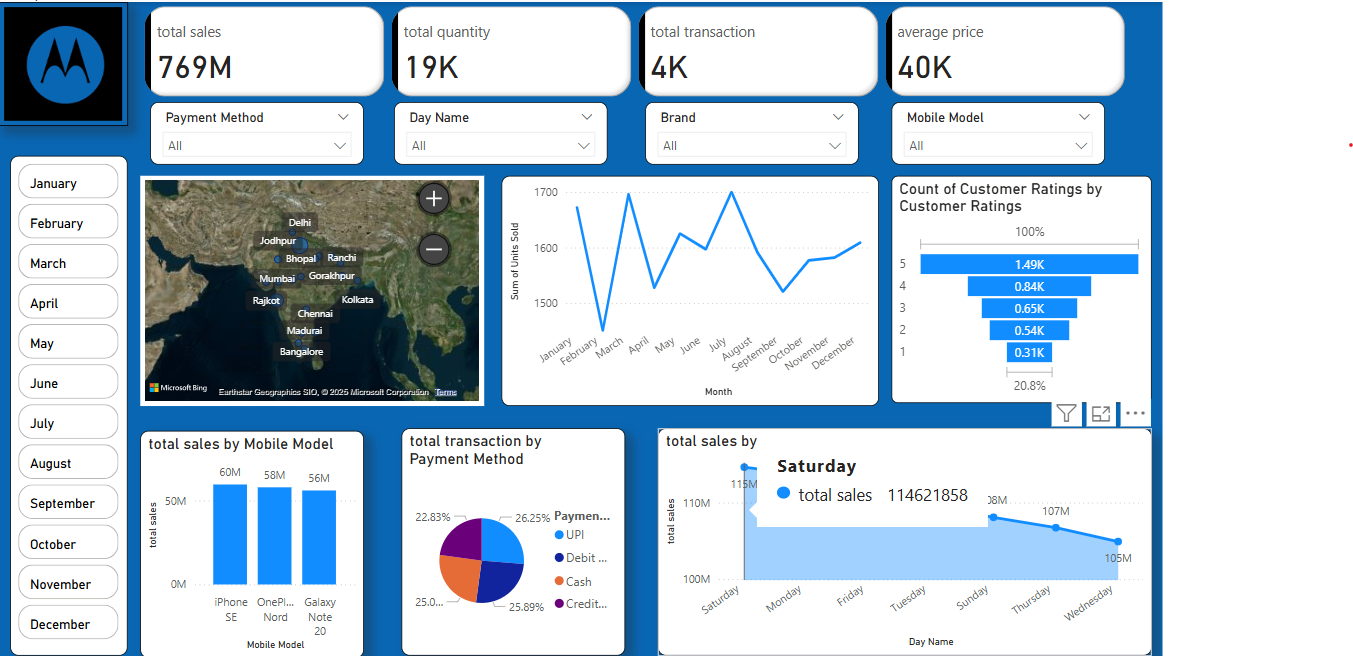

This screenshot's page, from the dashboard's own definition file:
{"tool":"powerbi","page":{"name":"Page 1","canvas":[1280,720],"ordinal":0},"visuals":[{"type":"image","box":[0,0,141.2,136.2],"z":0},{"type":"advancedSlicerVisual","fields":{"Values":["Sheet1.Date.Variation.Date Hierarchy.Month"]},"box":[12.3,168.8,129,548.9],"z":1000},{"type":"cardVisual","fields":{"Data":["Sheet1.total sales","Sheet1.total quantity","Sheet1.total transaction","Sheet1.average price"]},"box":[155.1,0,1086.8,109.8],"z":2000},{"type":"map","fields":{"Category":["Sheet1.City"],"Size":["Sheet1.total sales"]},"box":[155.1,190.7,377.4,252.5],"z":3000},{"type":"lineChart","fields":{"Y":["Sum(Sheet1.Units Sold)"],"Category":["Sheet1.Date.Variation.Date Hierarchy.Month","Sheet1.Date.Variation.Date Hierarchy.Day"]},"box":[551.6,190.7,414.4,252.5],"z":4000},{"type":"columnChart","fields":{"Category":["Sheet1.Mobile Model"],"Y":["Sheet1.total sales"]},"box":[155.1,470.7,245.6,249.7],"z":5000},{"type":"pieChart","fields":{"Category":["Sheet1.Payment Method"],"Y":["Sheet1.total transaction"]},"box":[441.9,467.9,245.6,249.7],"z":6000},{"type":"funnel","fields":{"Category":["Sheet1.Customer Ratings"],"Y":["CountNonNull(Sheet1.Customer Ratings)"]},"box":[979.8,190.7,285.4,249.7],"z":7000},{"type":"areaChart","fields":{"Category":["Sheet1.Day Name"],"Y":["Sheet1.total sales"]},"box":[723.2,467.9,542,249.7],"z":8000},{"type":"slicer","fields":{"Values":["Sheet1.Payment Method"]},"box":[166,109.8,234.6,68.6],"z":9000},{"type":"slicer","fields":{"Values":["Sheet1.Day Name"]},"box":[433.6,109.8,234.6,68.6],"z":10000},{"type":"slicer","fields":{"Values":["Sheet1.Brand"]},"box":[709.4,109.8,234.6,68.6],"z":11000},{"type":"slicer","fields":{"Values":["Sheet1.Mobile Model"]},"box":[979.8,109.8,234.6,68.6],"z":12000}]}

Visuals, with their boxes in screenshot pixels (x1, y1, x2, y2):
image: x1=0, y1=0, x2=127, y2=122
advancedSlicerVisual - Sheet1.Date.Variation.Date Hierarchy.Month: x1=11, y1=152, x2=127, y2=644
cardVisual - Sheet1.total sales x Sheet1.total quantity: x1=139, y1=0, x2=1115, y2=99
map - Sheet1.City x Sheet1.total sales: x1=139, y1=171, x2=478, y2=398
lineChart - Sum(Sheet1.Units Sold) x Sheet1.Date.Variation.Date Hierarchy.Month: x1=495, y1=171, x2=867, y2=398
columnChart - Sheet1.Mobile Model x Sheet1.total sales: x1=139, y1=423, x2=360, y2=647
pieChart - Sheet1.Payment Method x Sheet1.total transaction: x1=397, y1=420, x2=617, y2=644
funnel - Sheet1.Customer Ratings x CountNonNull(Sheet1.Customer Ratings): x1=880, y1=171, x2=1136, y2=395
areaChart - Sheet1.Day Name x Sheet1.total sales: x1=649, y1=420, x2=1136, y2=644
slicer - Sheet1.Payment Method: x1=149, y1=99, x2=360, y2=160
slicer - Sheet1.Day Name: x1=389, y1=99, x2=600, y2=160
slicer - Sheet1.Brand: x1=637, y1=99, x2=847, y2=160
slicer - Sheet1.Mobile Model: x1=880, y1=99, x2=1090, y2=160
